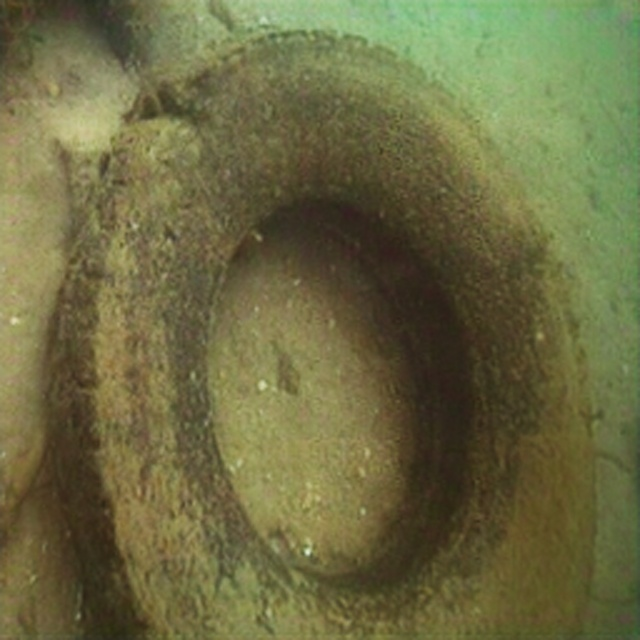mine: (48, 23, 598, 639)
